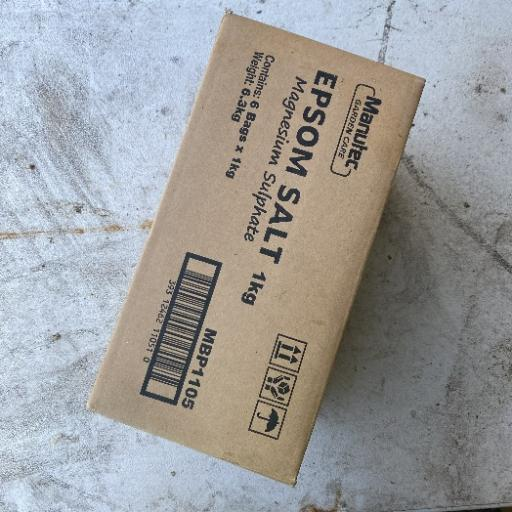Cardboard: (84, 10, 427, 488)
